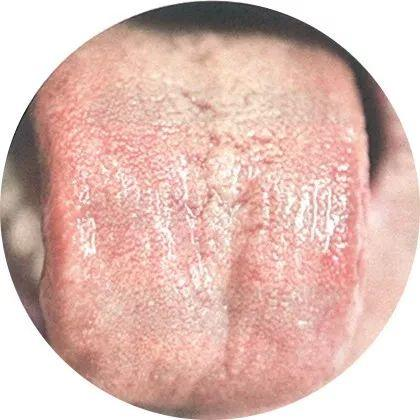baitaishe: (32, 20, 369, 409)
